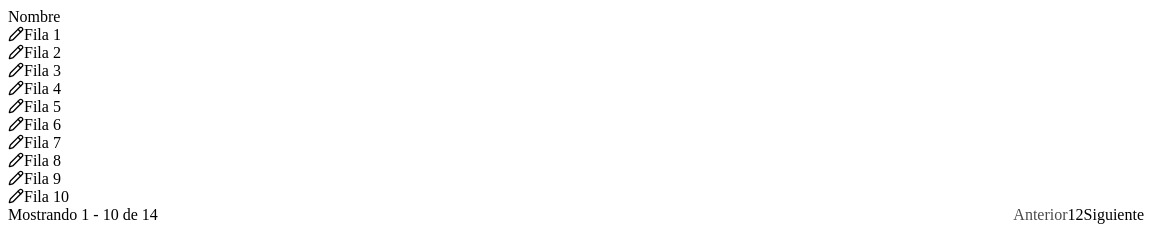
it: AdvancedTable — edición y paginación › con paginación, editar en la página 2 guarda en la fila 11 (índice original)
The width and height of the screenshot is (1152, 241).
Click the button "2": (1080, 215) [1076,206,1084,224]
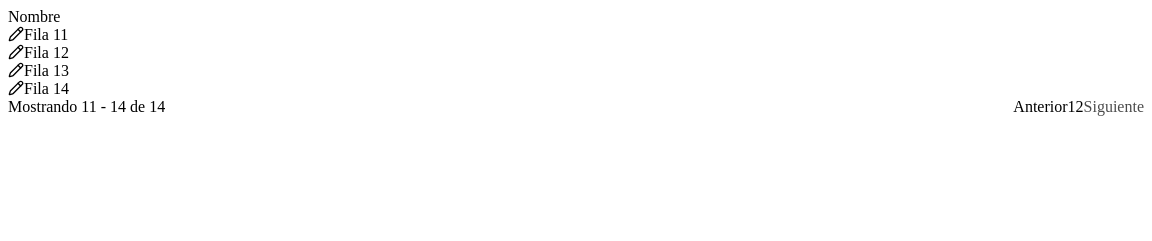
Check: the number of rows with class "cu-table-row" is 4, box [8,26,1144,44]; [8,44,1144,62]; [8,62,1144,80]; [8,80,1144,98]
Click the button with class "cu-editable-cell-view" showing "Fila 11": (38, 34) [8,26,68,43]
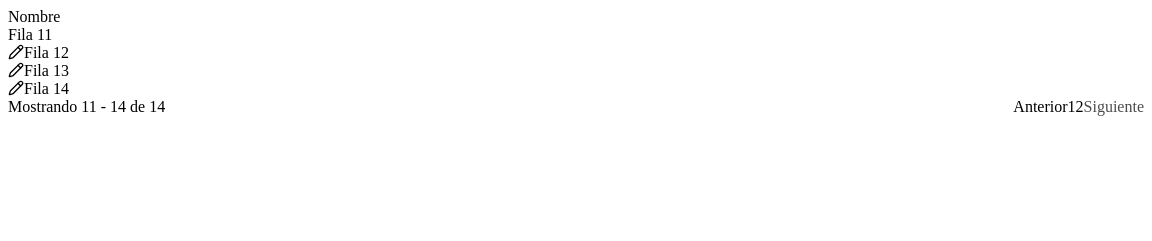
Replace the text in the field with class "cu-editable-cell-input" with "EDITADA-11": (576, 35) [8,26,1144,44]
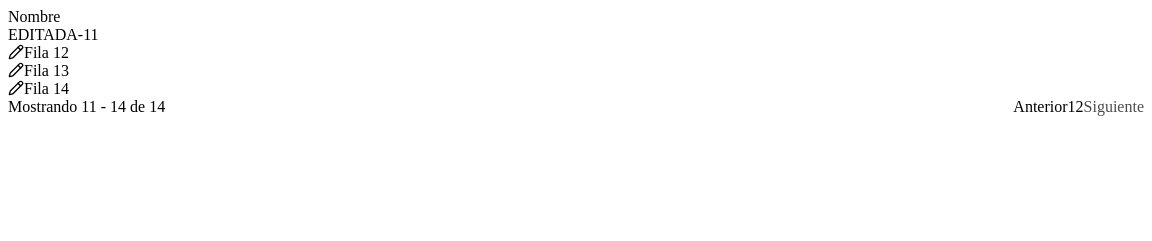
Press Enter in the field with class "cu-editable-cell-input", box [8,26,1144,44]
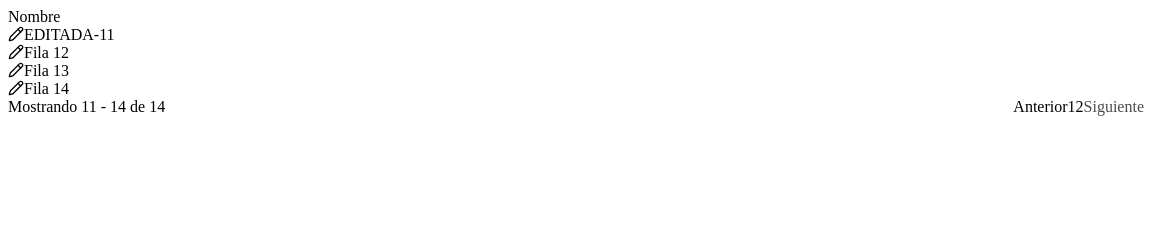
Check: the button "EDITADA-11" is shown, box [8,26,114,43]
